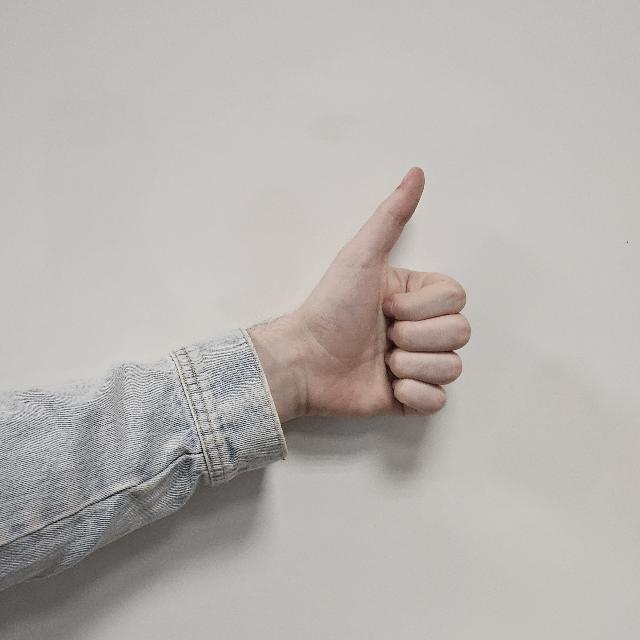Start: (255, 143, 480, 463)
